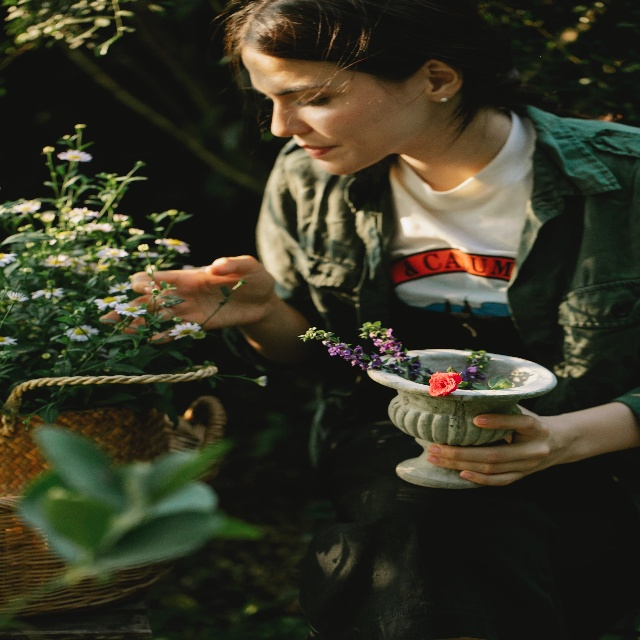Sin_guantes: (122, 254, 273, 345), (426, 402, 553, 485)
